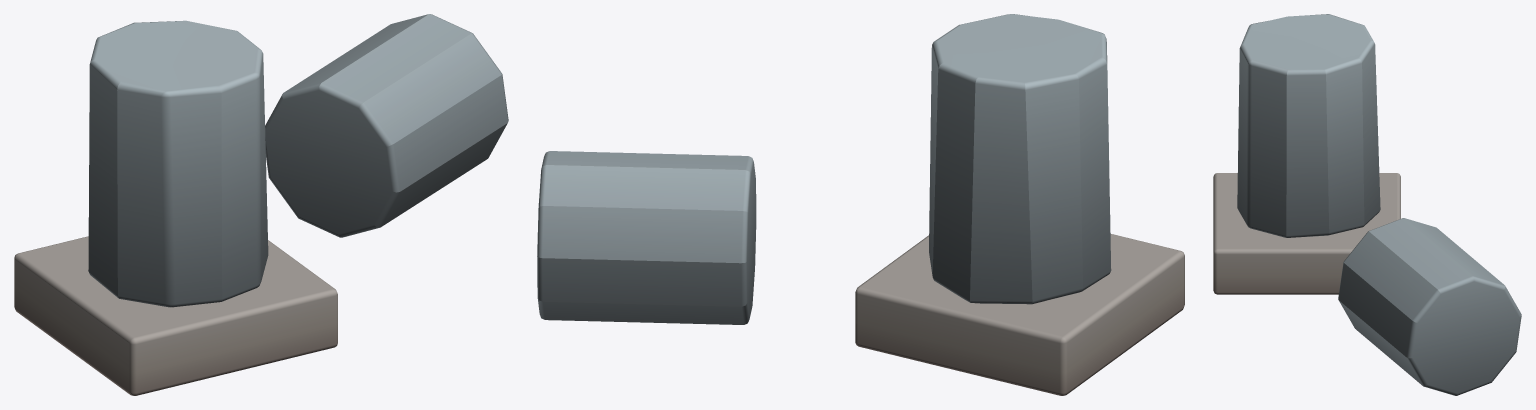
The model's file is broken_column.glb.
3 views of the same model, side by side, from view 1: azimuth 30°, elevation 25°; view 2: azimuth 150°, elevation 25°; view 3: azimuth 270°, elevation 25° (orthographic). The views are drawn at different scales.
Visible parts, largest first — view 1: broken_column; view 2: broken_column; view 3: broken_column.
Part boxes in pixels (<box>): broken_column: <box>14,14,508,395</box>; broken_column: <box>537,14,1184,395</box>; broken_column: <box>1213,14,1521,395</box>.
Bounding box in the file's own units: 3.14 × 1.65 × 2.13.
1 material, 1 textured.
